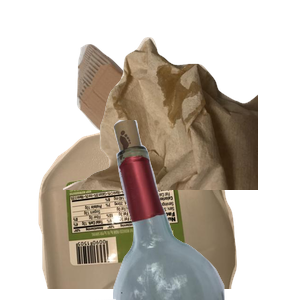cardboard: (74, 42, 225, 170)
glass: (89, 120, 300, 300)
plastic: (36, 120, 265, 300)
trash: (60, 35, 300, 215)
